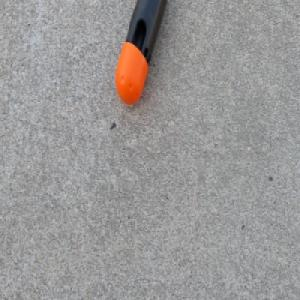PlasticPart: (114, 0, 167, 106)
